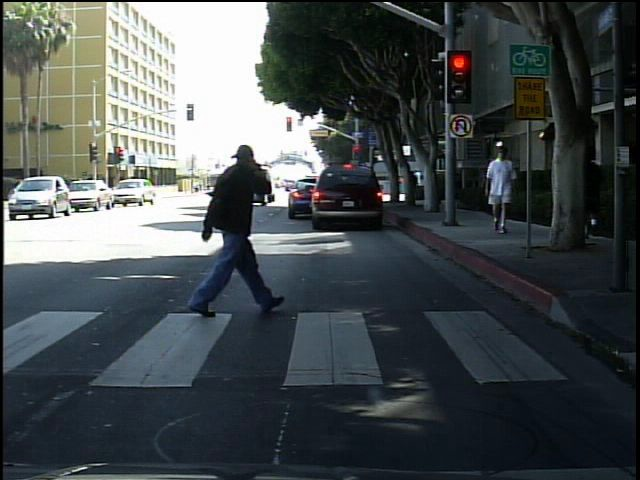person: (176, 121, 288, 335), (480, 145, 523, 240), (576, 137, 609, 246)
